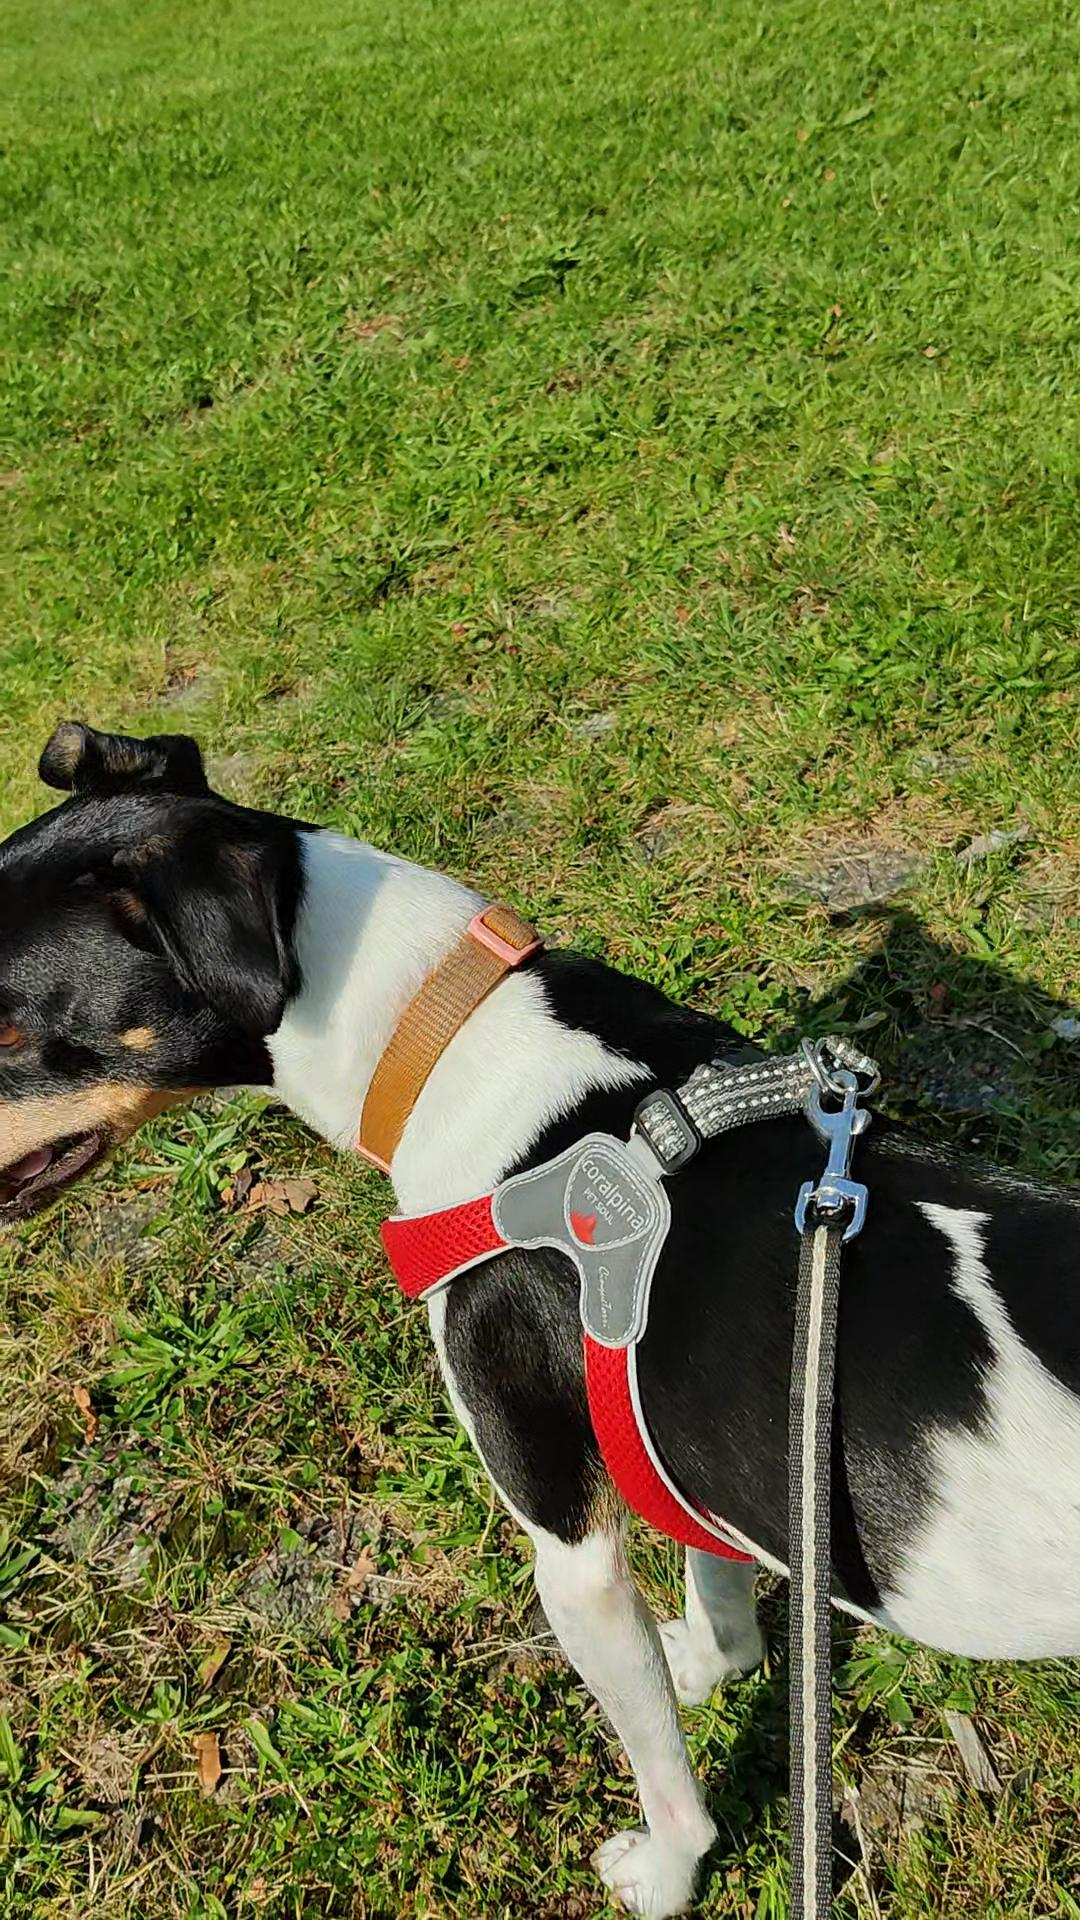Dog: (0, 703, 1080, 1919)
